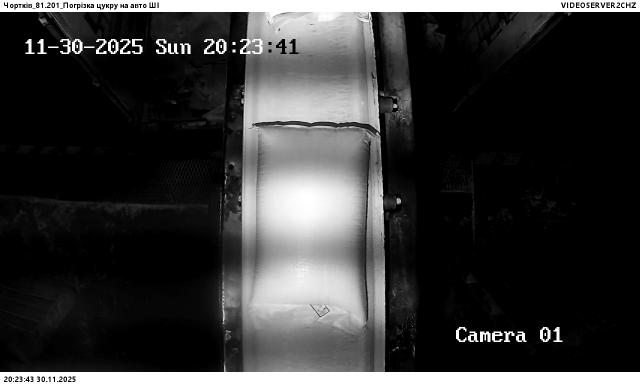bag: (249, 123, 374, 334)
